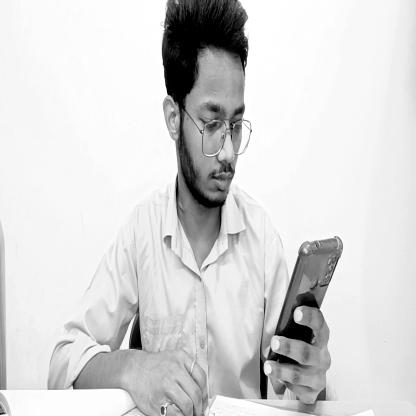Distracted: (167, 2, 257, 216)
